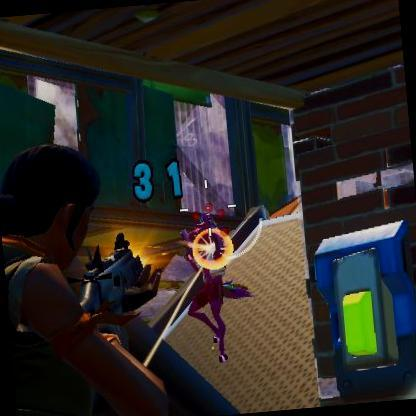person: (179, 214, 243, 363)
